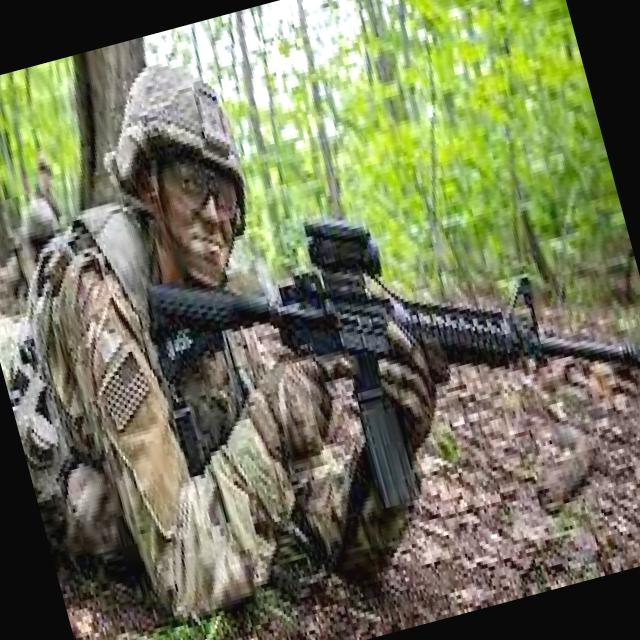m16: (100, 79, 640, 624)
